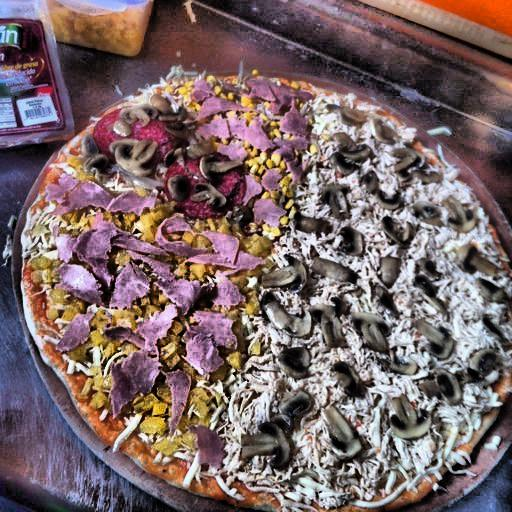pizza: (25, 61, 512, 512)
